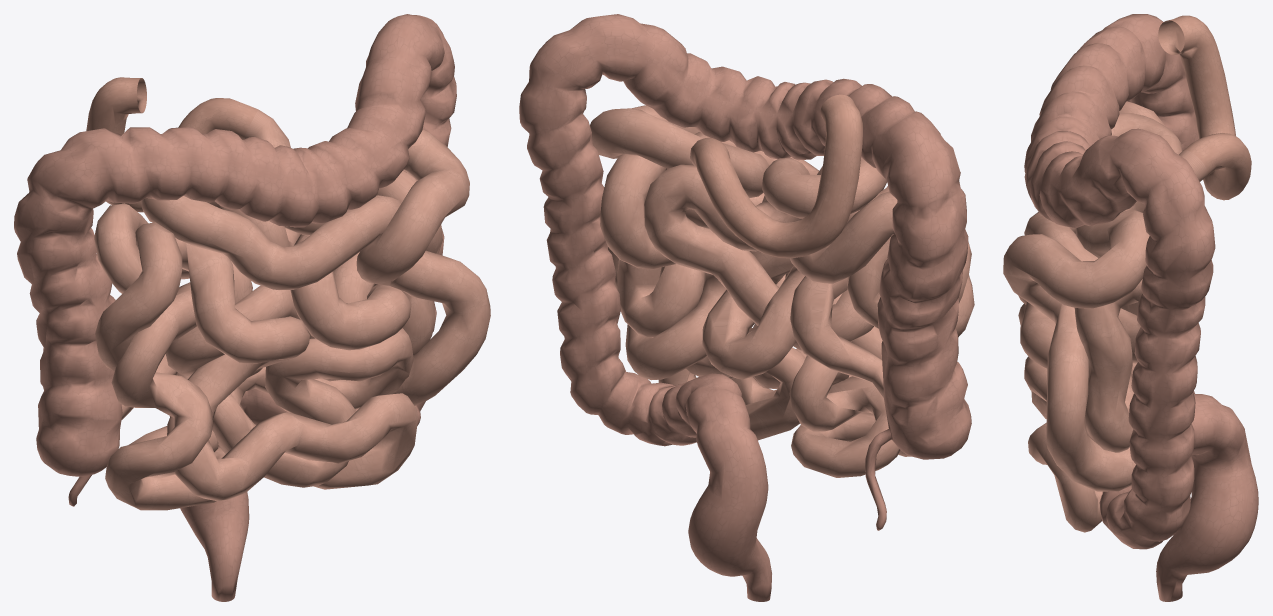
The model's file is overview.glb.
The picture shows the model from 3 angles, left to right: view 1: azimuth 30°, elevation 25°; view 2: azimuth 150°, elevation 25°; view 3: azimuth 270°, elevation 25°; orthographic projection. The views are drawn at different scales.
Parts seen in each view (by area): view 1: intestines; view 2: intestines; view 3: intestines.
Part boxes in pixels (box(x1,y1,x2,y2)): intestines: box(14, 14, 490, 601); intestines: box(519, 14, 974, 601); intestines: box(1003, 14, 1258, 601).
Bounding box in the file's own units: 0.2484 × 0.2963 × 0.1256.
6 materials, 6 textured.
